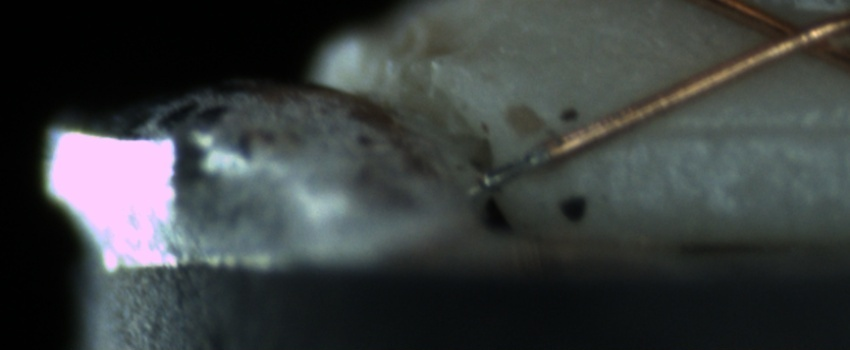CL: (738, 2, 843, 69)
DL: (617, 94, 846, 163)
TS: (479, 145, 551, 191)
TTCW: (480, 136, 567, 193)
